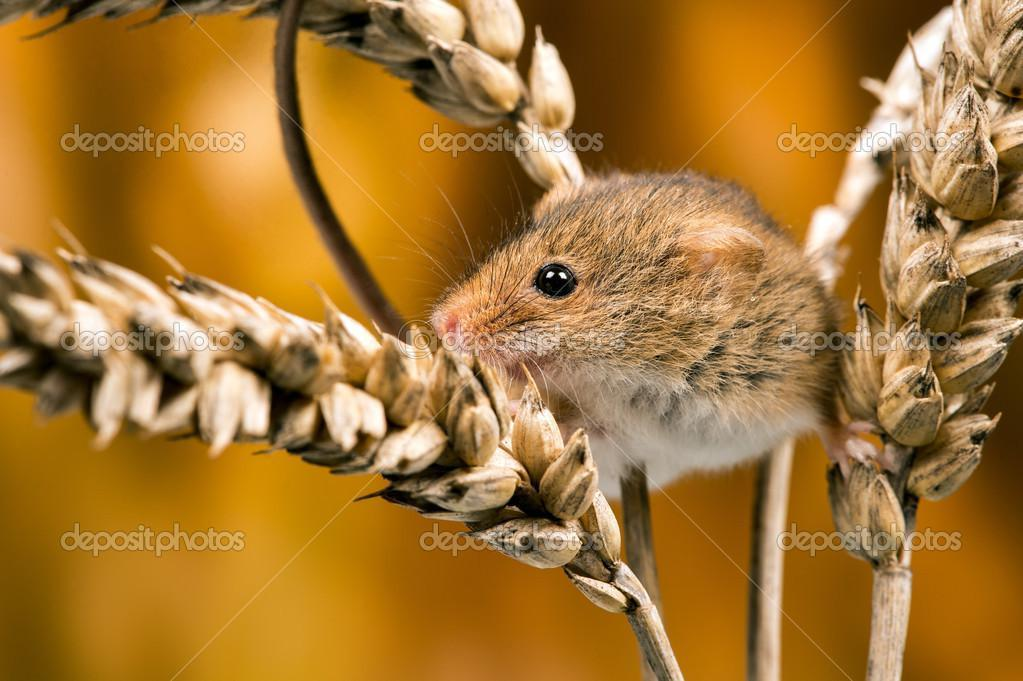rat: (431, 176, 848, 494)
